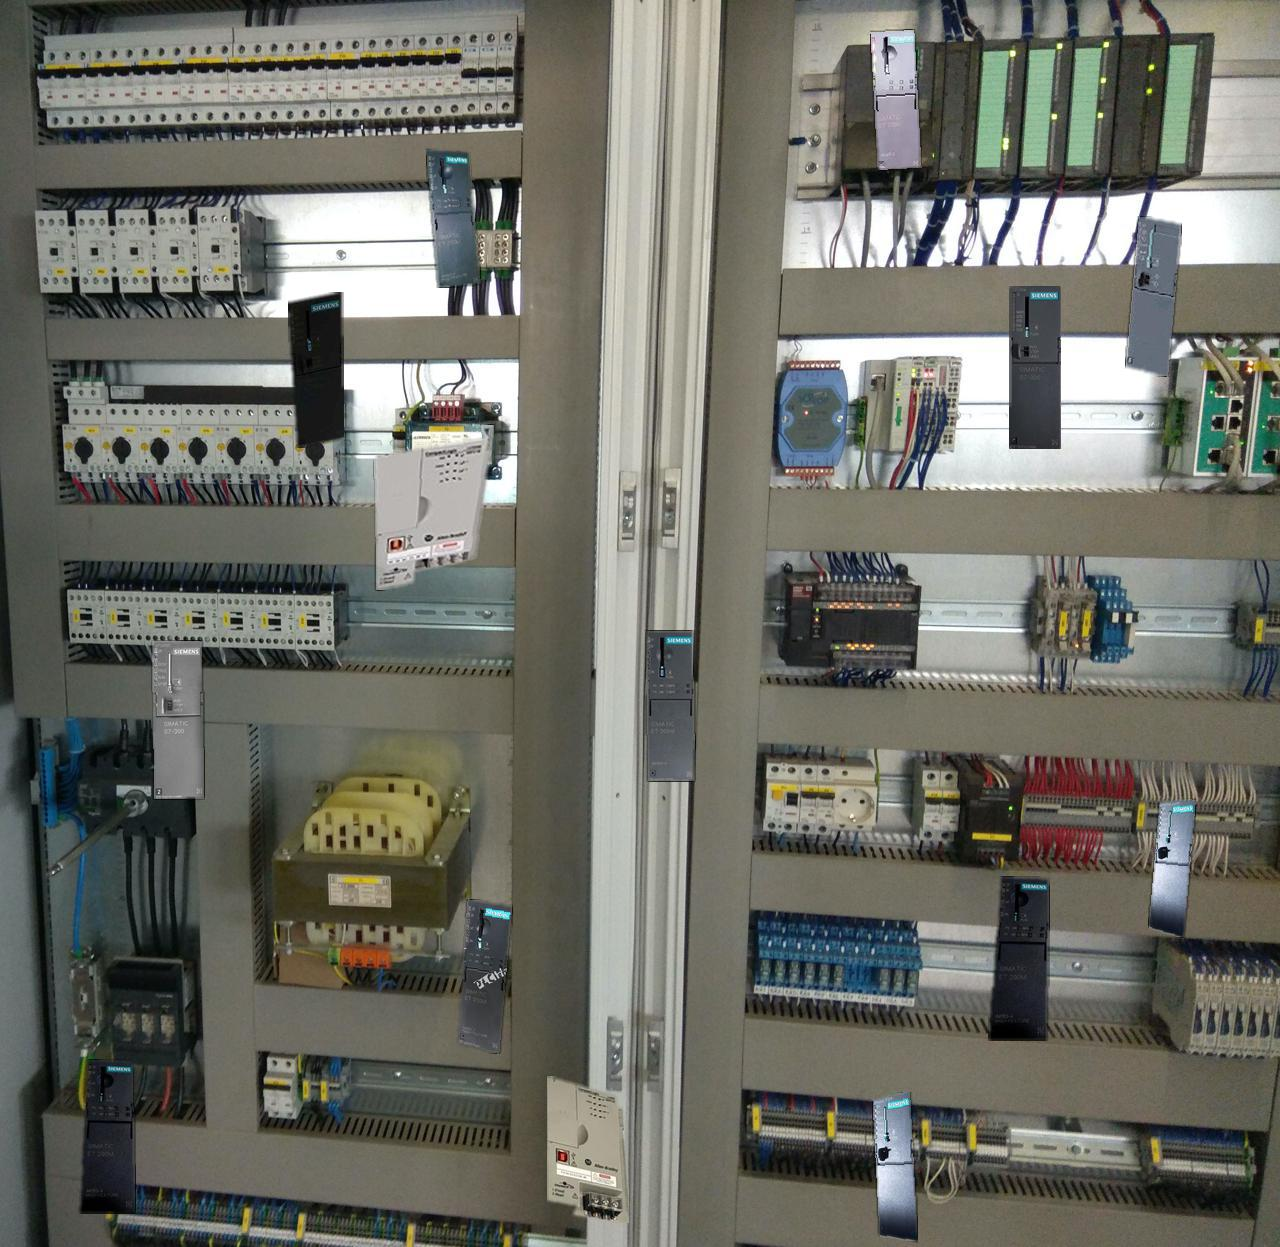AllenBradley: (375, 425, 493, 589), (547, 1076, 629, 1222)
Siemens: (1126, 216, 1179, 376), (288, 291, 343, 447), (1009, 286, 1061, 448), (153, 641, 203, 798), (873, 1092, 917, 1240), (1149, 800, 1195, 936)
